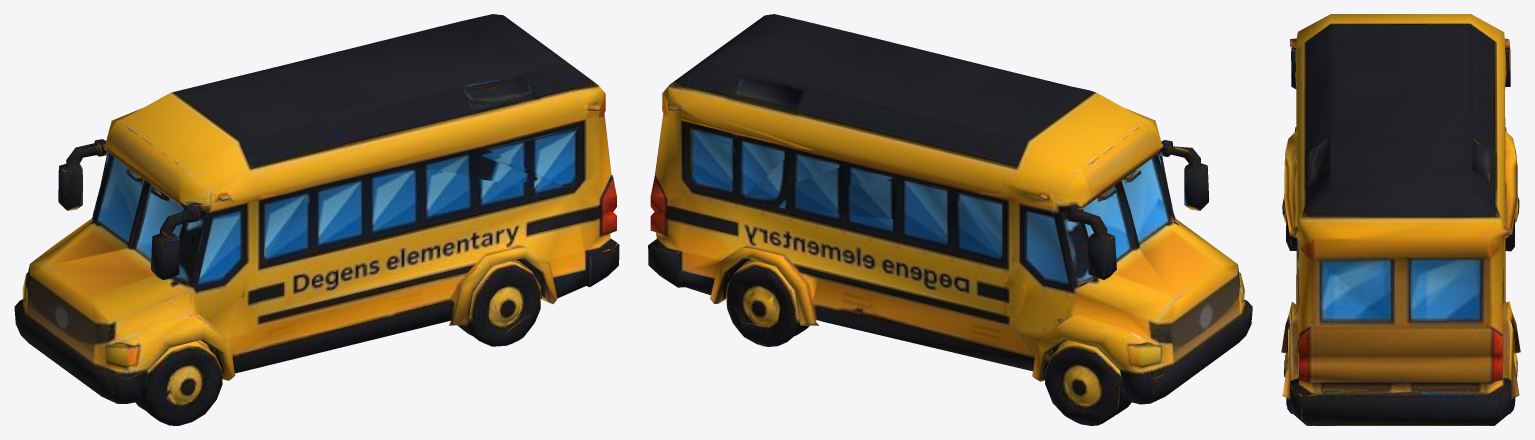
The model's file is bus_degen.glb.
3 views of the same model, side by side, from view 1: azimuth 30°, elevation 25°; view 2: azimuth 150°, elevation 25°; view 3: azimuth 270°, elevation 25° (orthographic). The views are drawn at different scales.
Visible parts, largest first — view 1: Mesh1.0; view 2: Mesh1.0; view 3: Mesh1.0.
Part boxes in pixels (x1=…): Mesh1.0: x1=14, y1=14, x2=619, y2=425; Mesh1.0: x1=648, y1=14, x2=1252, y2=425; Mesh1.0: x1=1281, y1=14, x2=1520, y2=425.
Size of the model in its own units: 1.9 by 0.8882 by 0.7374.
Materials: 1 (1 with a texture image).
